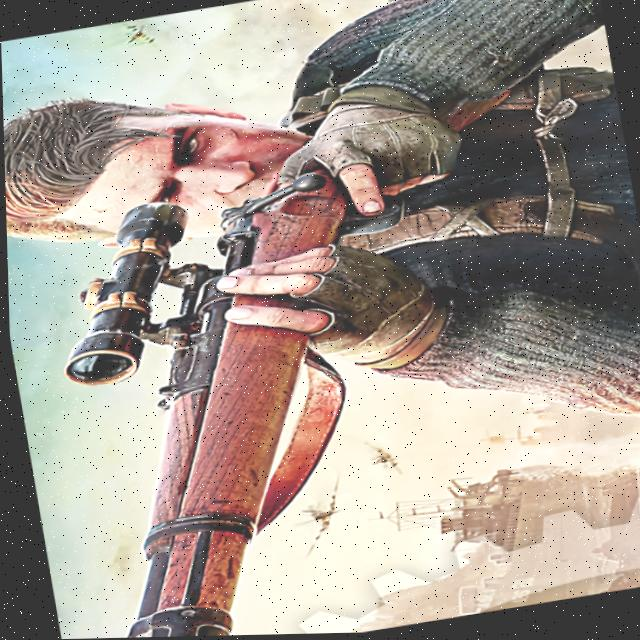firearm: (34, 164, 423, 639)
